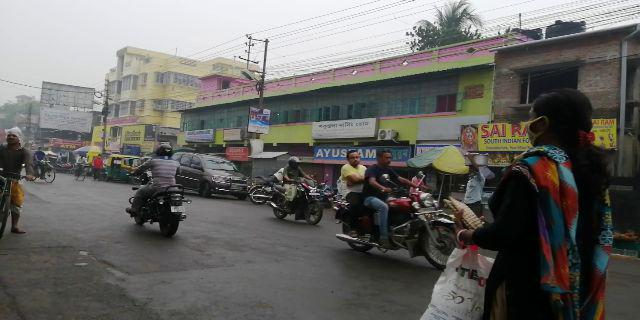Car: (179, 146, 249, 206)
Motorbike: (333, 148, 453, 259), (121, 145, 192, 235), (263, 153, 321, 220)
